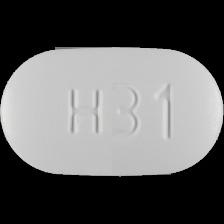43547-279: (0, 0, 224, 224)
